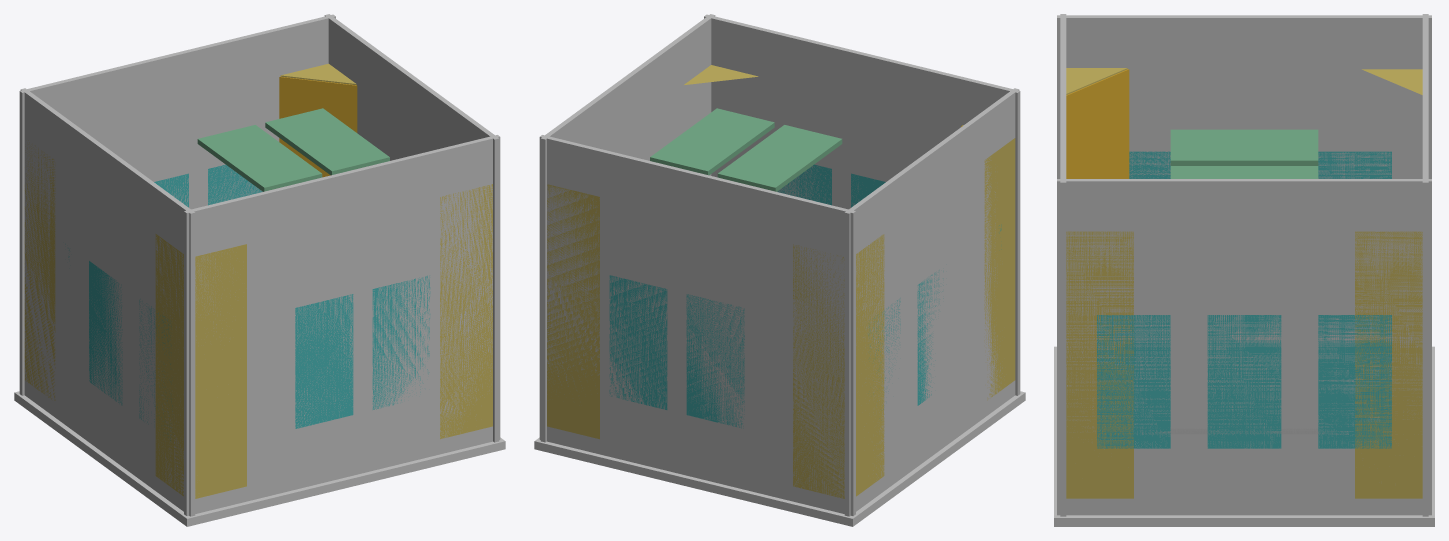
Rendered from modelo_acustico.glb.
The picture shows the model from 3 angles, left to right: view 1: azimuth 30°, elevation 25°; view 2: azimuth 150°, elevation 25°; view 3: azimuth 270°, elevation 25°; orthographic projection. The views are drawn at different scales.
Visible parts, largest first — view 1: geometry_68, geometry_66, geometry_69, geometry_67, geometry_8, geometry_23, geometry_13, geometry_18, geometry_65, geometry_28, geometry_6, geometry_10 (+10 smaller); view 2: geometry_69, geometry_66, geometry_68, geometry_67, geometry_7, geometry_9, geometry_43, geometry_33, geometry_48, geometry_65, geometry_38, geometry_10 (+9 smaller); view 3: geometry_67, geometry_66, geometry_3, geometry_1, geometry_5, geometry_24, geometry_44, geometry_49, geometry_29, geometry_17, geometry_65, geometry_10 (+8 smaller).
Boxes of the visible parts, x1,y1,x2,y2 form: geometry_68: (184, 135, 500, 515); geometry_66: (20, 88, 195, 516); geometry_69: (19, 14, 335, 395); geometry_67: (324, 14, 499, 442); geometry_8: (295, 294, 353, 428); geometry_23: (440, 305, 492, 439); geometry_13: (195, 365, 246, 498); geometry_18: (195, 244, 246, 377); geometry_65: (14, 391, 505, 526); geometry_28: (440, 184, 492, 317); geometry_6: (372, 275, 430, 409); geometry_10: (197, 125, 322, 191); geometry_69: (539, 135, 855, 515); geometry_66: (844, 88, 1019, 516); geometry_68: (704, 14, 1020, 395); geometry_67: (540, 14, 715, 442); geometry_7: (609, 275, 667, 409); geometry_9: (686, 294, 744, 428); geometry_43: (547, 305, 599, 438); geometry_33: (793, 365, 844, 498); geometry_48: (547, 184, 599, 317); geometry_65: (534, 391, 1025, 526); geometry_38: (793, 244, 844, 377); geometry_10: (717, 125, 842, 191); geometry_67: (1057, 179, 1431, 515); geometry_66: (1057, 15, 1431, 178); geometry_3: (1207, 315, 1281, 448); geometry_1: (1097, 315, 1170, 448); geometry_5: (1318, 315, 1391, 448); geometry_24: (1066, 365, 1133, 498); geometry_44: (1355, 365, 1422, 498); geometry_49: (1355, 231, 1422, 365); geometry_29: (1066, 231, 1133, 365); geometry_17: (1066, 69, 1129, 178); geometry_65: (1054, 346, 1434, 526); geometry_10: (1170, 129, 1318, 165).
Bounding box in the file's own units: 3.3 × 3.08 × 3.1.
